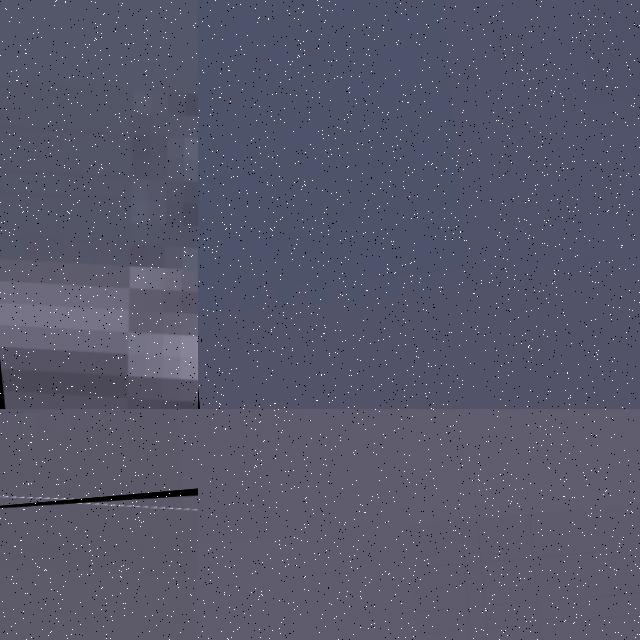drone: (0, 0, 198, 409), (0, 457, 198, 640)
